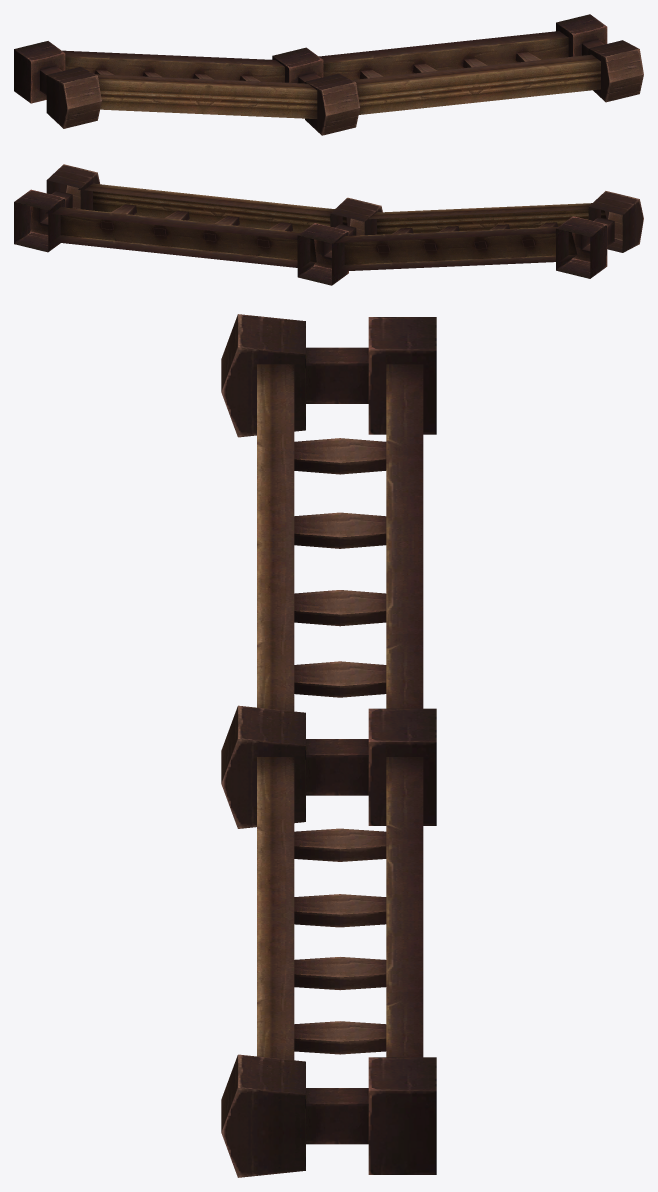
Rendered from huodong_jingsu_545_langan_02.obj.
The picture shows the model from 3 angles, top to bottom: view 1: azimuth 30°, elevation 25°; view 2: azimuth 150°, elevation 25°; view 3: azimuth 270°, elevation 25°; orthographic projection. The views are drawn at different scales.
Parts seen in each view (by area): view 1: huodong_jingsu_545_langan_02; view 2: huodong_jingsu_545_langan_02; view 3: huodong_jingsu_545_langan_02.
Part boxes in pixels (x1,y1,x2,y2): huodong_jingsu_545_langan_02: (14,14,643,135); huodong_jingsu_545_langan_02: (14,164,643,285); huodong_jingsu_545_langan_02: (221,314,436,1177).
Size of the model in its own units: 649 by 162 by 105.
1 material, 1 textured.
